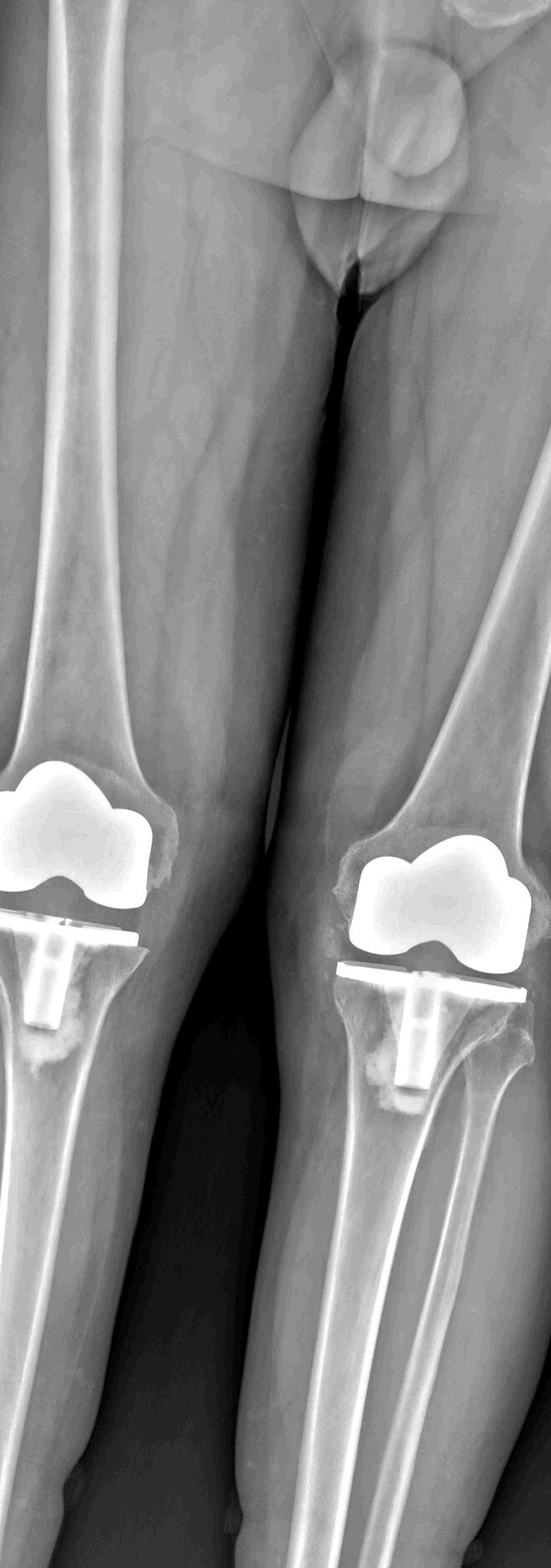Leg Fibula: (359, 1028, 534, 1568)
Leg Tibia: (282, 958, 527, 1568), (0, 910, 145, 1568)
femur: (0, 0, 178, 911), (337, 436, 551, 974)
